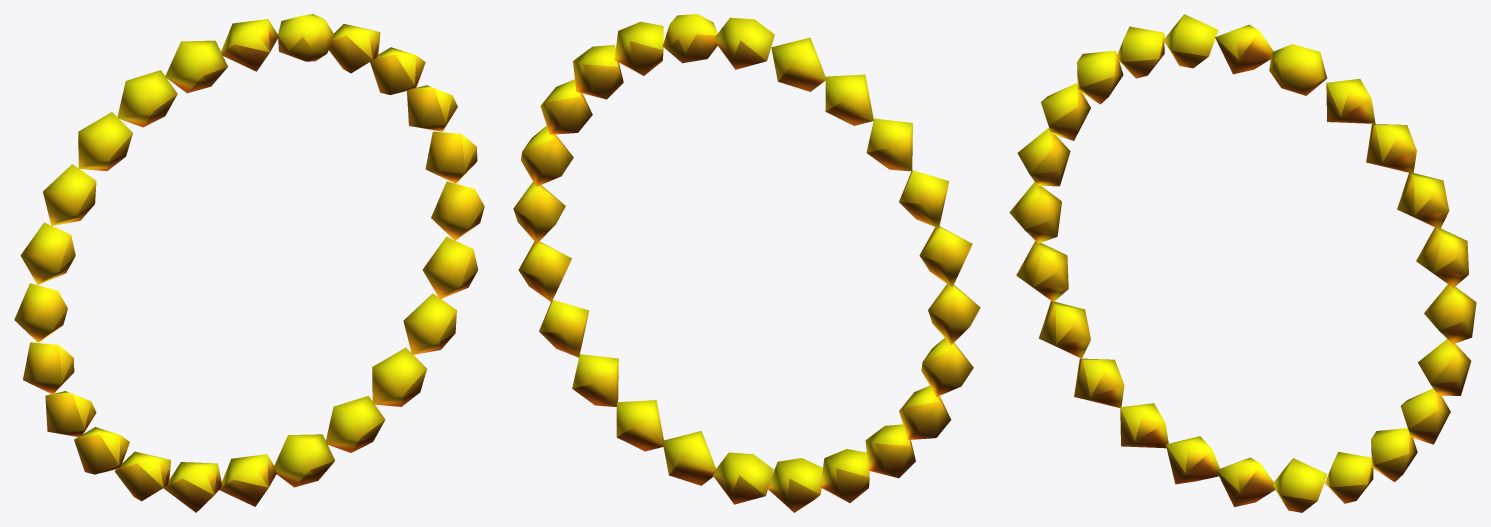
The model's file is RingDecimated.fbx.
The picture shows the model from 3 angles, left to right: view 1: azimuth 30°, elevation 25°; view 2: azimuth 150°, elevation 25°; view 3: azimuth 330°, elevation 25°; orthographic projection.
Parts seen in each view (by area): view 1: Sphere.018, Sphere.019, Sphere.022, Sphere.021, Sphere.023, Sphere.020, Sphere.017, Sphere.016, Sphere.014, Sphere.015, Sphere.002, Sphere.013 (+12 smaller); view 2: Sphere, Sphere.001, Sphere.003, Sphere.022, Sphere.023, Sphere.006, Sphere.004, Sphere.002, Sphere.021, Sphere.005, Sphere.020, Sphere.007 (+12 smaller); view 3: Sphere.002, Sphere.010, Sphere.011, Sphere.009, Sphere.013, Sphere.008, Sphere.012, Sphere.006, Sphere.007, Sphere.014, Sphere.015, Sphere.022 (+12 smaller).
Part boxes in pixels (bbox=[...]): Sphere.018: bbox=[372, 347, 426, 406]; Sphere.019: bbox=[78, 112, 132, 171]; Sphere.022: bbox=[274, 434, 334, 487]; Sphere.021: bbox=[117, 70, 177, 127]; Sphere.023: bbox=[165, 40, 227, 93]; Sphere.020: bbox=[326, 396, 385, 452]; Sphere.017: bbox=[43, 164, 96, 225]; Sphere.016: bbox=[403, 293, 456, 354]; Sphere.014: bbox=[422, 236, 478, 298]; Sphere.015: bbox=[20, 222, 75, 284]; Sphere.002: bbox=[278, 14, 334, 61]; Sphere.013: bbox=[14, 283, 67, 342]; Sphere: bbox=[713, 17, 774, 69]; Sphere.001: bbox=[713, 452, 773, 504]; Sphere.003: bbox=[767, 458, 822, 512]; Sphere.022: bbox=[662, 431, 716, 485]; Sphere.023: bbox=[771, 37, 825, 91]; Sphere.006: bbox=[573, 45, 623, 99]; Sphere.004: bbox=[614, 21, 663, 75]; Sphere.002: bbox=[662, 14, 717, 63]; Sphere.021: bbox=[825, 74, 873, 125]; Sphere.005: bbox=[820, 449, 869, 502]; Sphere.020: bbox=[616, 400, 663, 451]; Sphere.007: bbox=[865, 424, 915, 478]; Sphere.002: bbox=[1269, 44, 1327, 95]; Sphere.010: bbox=[1416, 227, 1468, 287]; Sphere.011: bbox=[1016, 241, 1068, 301]; Sphere.009: bbox=[1039, 301, 1090, 358]; Sphere.013: bbox=[1009, 182, 1061, 243]; Sphere.008: bbox=[1397, 173, 1449, 229]; Sphere.012: bbox=[1424, 284, 1476, 344]; Sphere.006: bbox=[1366, 124, 1416, 173]; Sphere.007: bbox=[1074, 358, 1124, 407]; Sphere.014: bbox=[1418, 339, 1471, 395]; Sphere.015: bbox=[1017, 128, 1070, 186]; Sphere.022: bbox=[1273, 458, 1327, 512].
Size of the model in its own units: 435 by 435 by 42.26.
24 materials, 24 textured.
